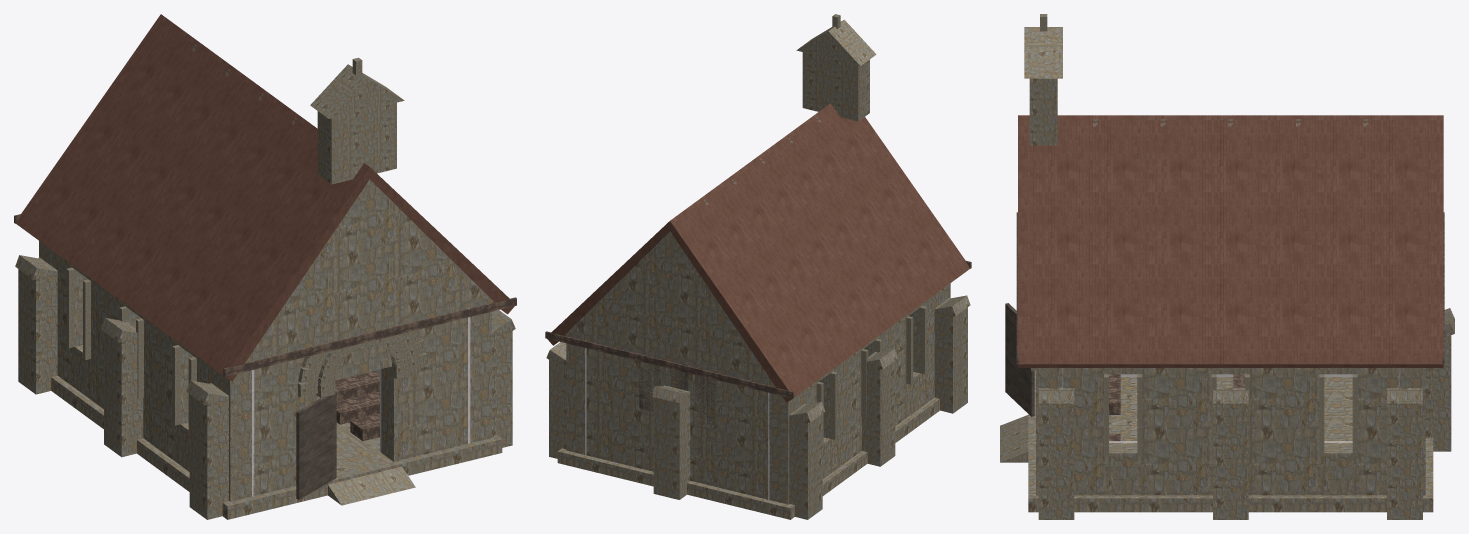
The model's file is prop_church_v2.glb.
The picture shows the model from 3 angles, left to right: view 1: azimuth 30°, elevation 25°; view 2: azimuth 150°, elevation 25°; view 3: azimuth 270°, elevation 25°; orthographic projection. The views are drawn at different scales.
Visible parts, largest first — view 1: building_church_v2; view 2: building_church_v2; view 3: building_church_v2.
Part boxes in pixels (x1,y1,x2,y2): building_church_v2: [14, 14, 516, 519]; building_church_v2: [545, 14, 971, 519]; building_church_v2: [1000, 14, 1454, 519].
Size of the model in its own units: 7.14 by 9.28 by 8.87.
6 materials, 6 textured.
